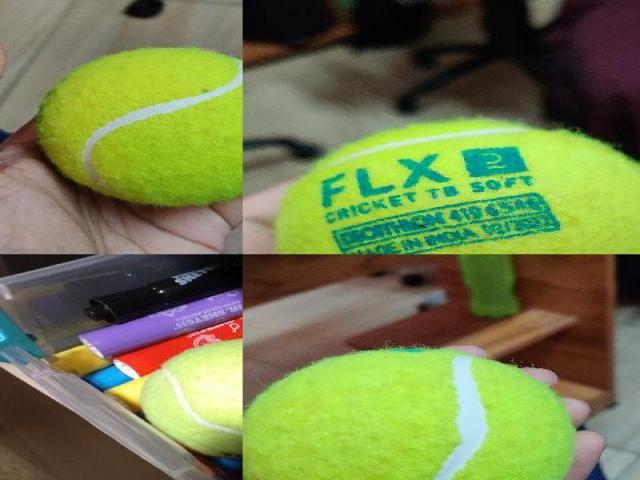tennis-ball: (276, 118, 639, 253), (243, 348, 576, 479), (35, 48, 242, 206), (142, 337, 242, 459)
